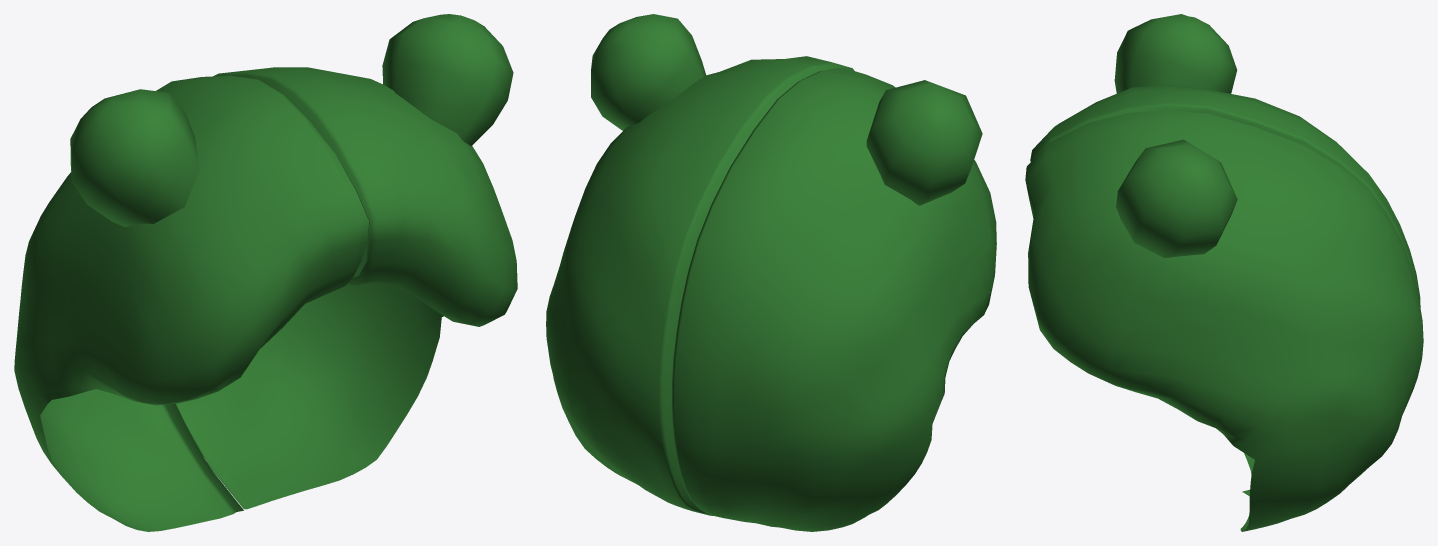
3 views of the same model, side by side, from view 1: azimuth 30°, elevation 25°; view 2: azimuth 150°, elevation 25°; view 3: azimuth 270°, elevation 25° (orthographic). The views are drawn at different scales.
Visible parts, largest first — view 1: hair; view 2: hair; view 3: hair.
Part boxes in pixels (x1,y1,x2,y2): hair: [14, 14, 517, 531]; hair: [546, 14, 996, 531]; hair: [1025, 14, 1423, 531].
Size of the model in its own units: 0.9482 by 1.03 by 0.8867.
